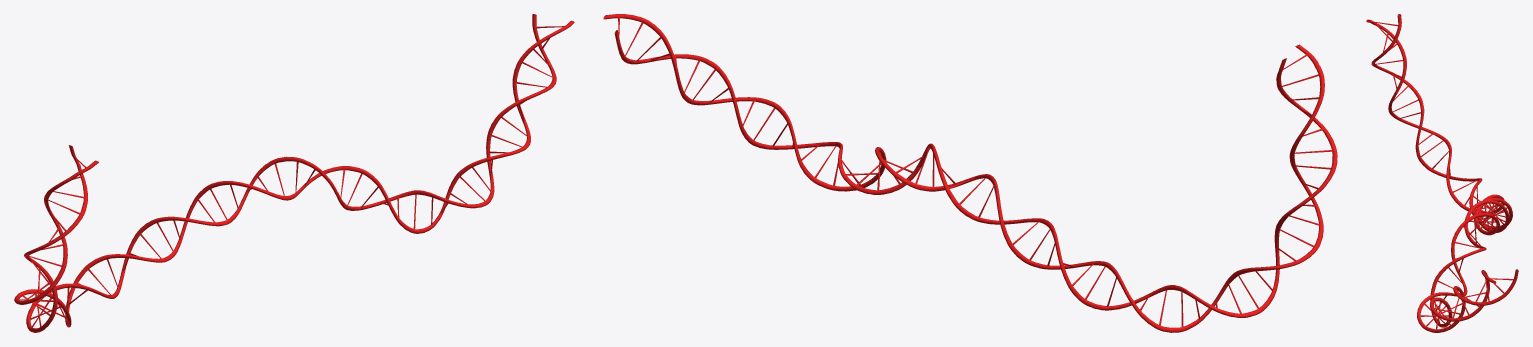
The model's file is dna_animation.glb.
The picture shows the model from 3 angles, left to right: view 1: azimuth 30°, elevation 25°; view 2: azimuth 150°, elevation 25°; view 3: azimuth 270°, elevation 25°; orthographic projection. The views are drawn at different scales.
Parts seen in each view (by area): view 1: Cylinder; view 2: Cylinder; view 3: Cylinder.
Boxes of the visible parts, x1,y1,x2,y2 form: Cylinder: [14, 14, 574, 332]; Cylinder: [603, 14, 1337, 332]; Cylinder: [1366, 14, 1518, 332].
Size of the model in its own units: 35.63 by 12.62 by 9.56.
